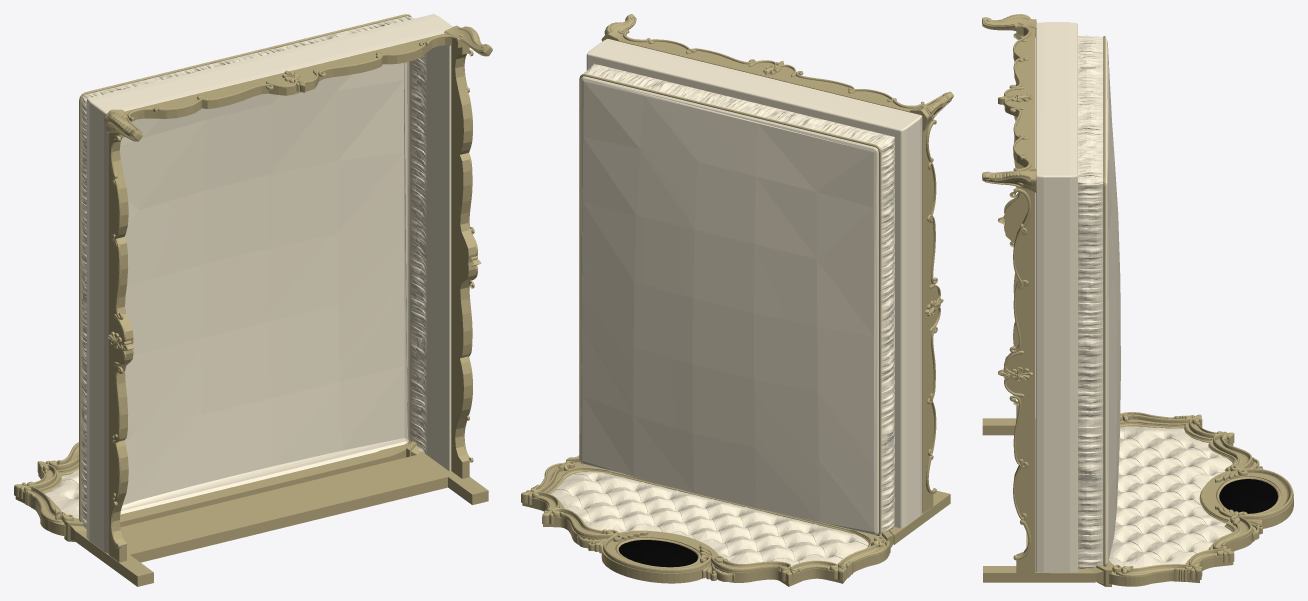
The model's file is Bed1.FBX.
The picture shows the model from 3 angles, left to right: view 1: azimuth 30°, elevation 25°; view 2: azimuth 150°, elevation 25°; view 3: azimuth 270°, elevation 25°; orthographic projection. The views are drawn at different scales.
Parts seen in each view (by area): view 1: Sphere01; view 2: Sphere01; view 3: Sphere01.
Part boxes in pixels (<box>): Sphere01: <box>14,14,492,586</box>; Sphere01: <box>521,14,953,586</box>; Sphere01: <box>982,14,1293,586</box>.
Size of the model in its own units: 185 by 219 by 149.
